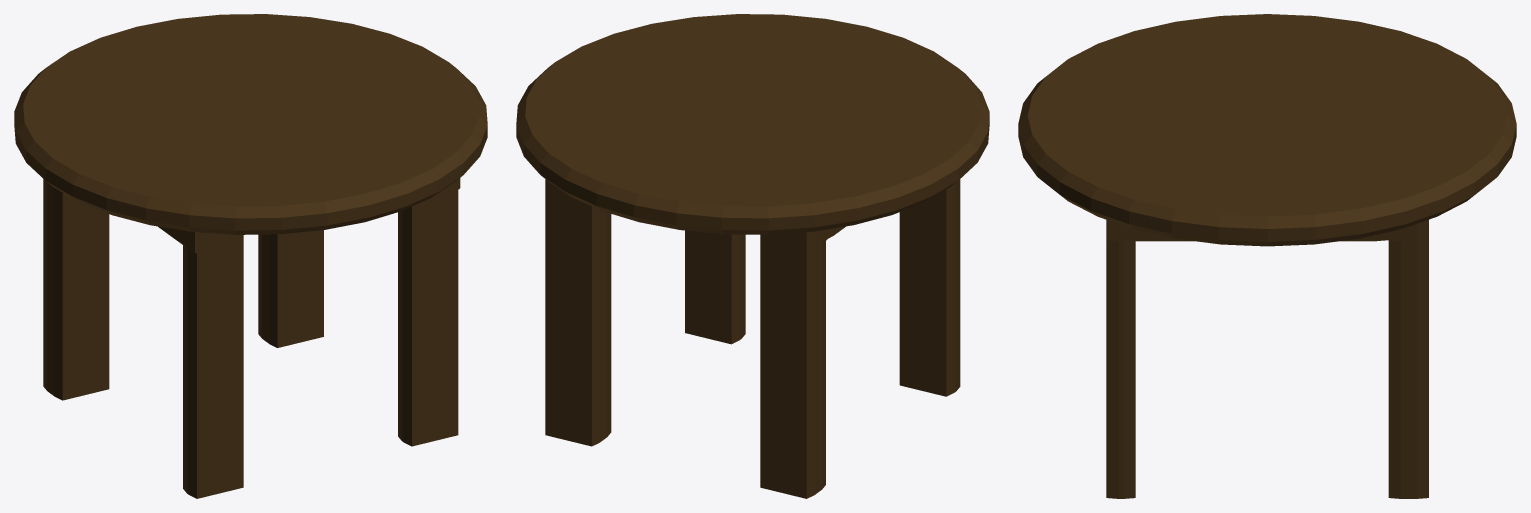
The model's file is Stool.fbx.
The picture shows the model from 3 angles, left to right: view 1: azimuth 30°, elevation 25°; view 2: azimuth 150°, elevation 25°; view 3: azimuth 270°, elevation 25°; orthographic projection. The views are drawn at different scales.
Parts seen in each view (by area): view 1: Circle.008, Cube.016; view 2: Circle.008, Cube.016; view 3: Circle.008, Cube.016.
Part boxes in pixels (x1,y1,x2,y2): Circle.008: (14, 14, 487, 234); Cube.016: (43, 178, 460, 498); Circle.008: (516, 14, 989, 234); Cube.016: (545, 179, 960, 498); Circle.008: (1018, 14, 1516, 246); Cube.016: (1106, 219, 1428, 498).
Size of the model in its own units: 623 by 435 by 623.
